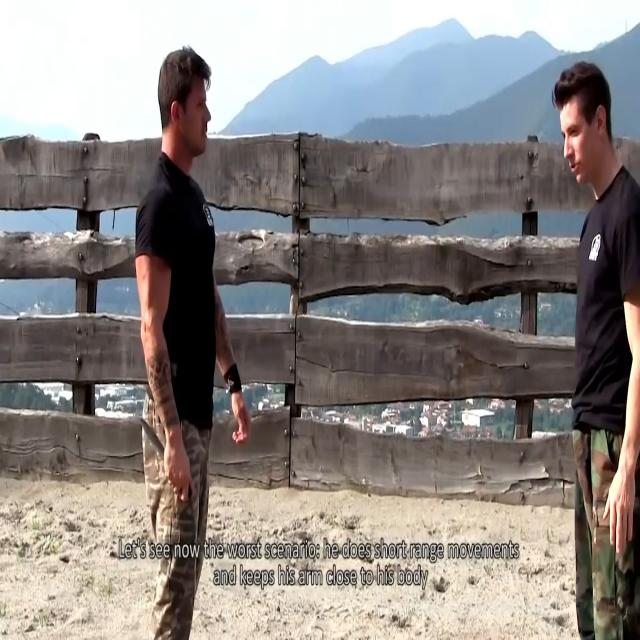knife: (142, 413, 167, 470)
